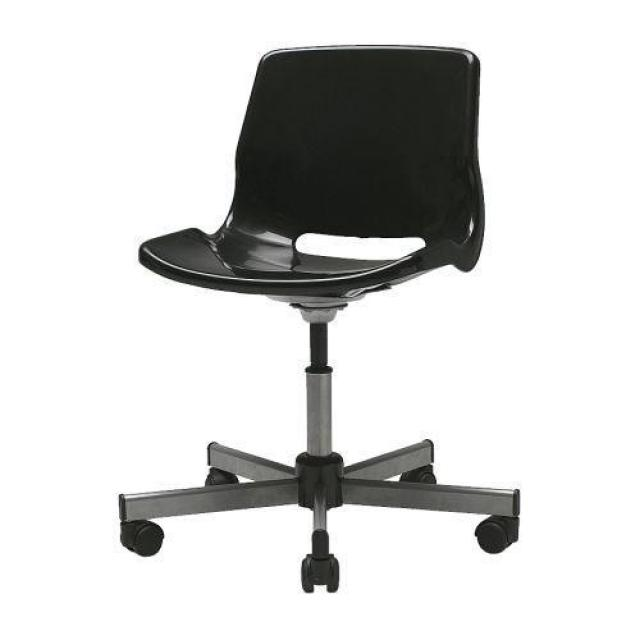swivelchair: (116, 45, 522, 594)
